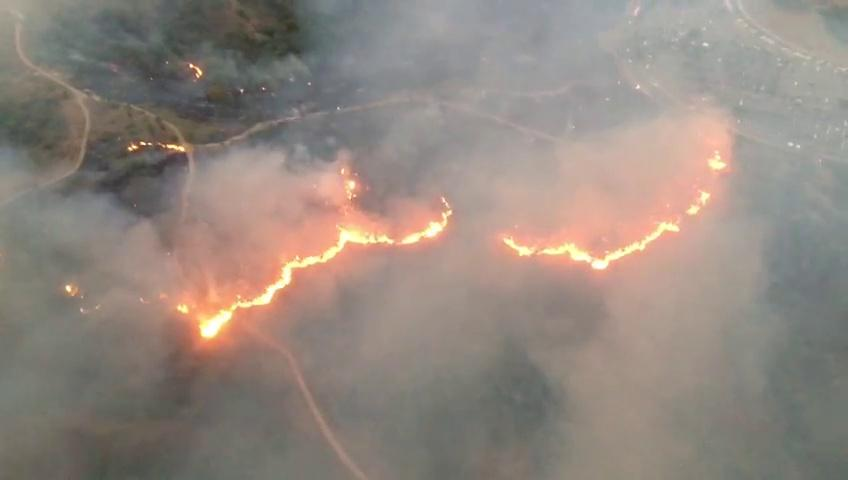fire: (333, 225, 386, 250), (514, 244, 581, 258), (203, 309, 231, 341), (419, 220, 446, 240)
smoke: (198, 160, 275, 272)
